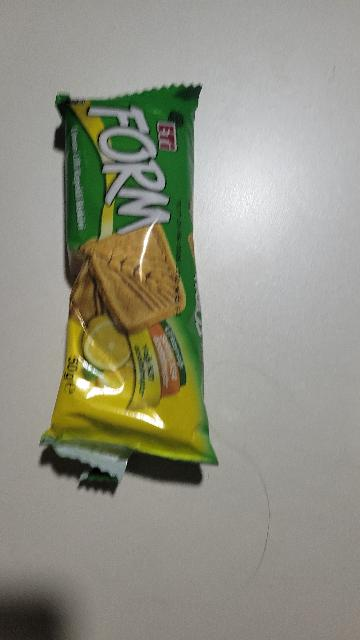Plastik: (44, 79, 225, 510)
